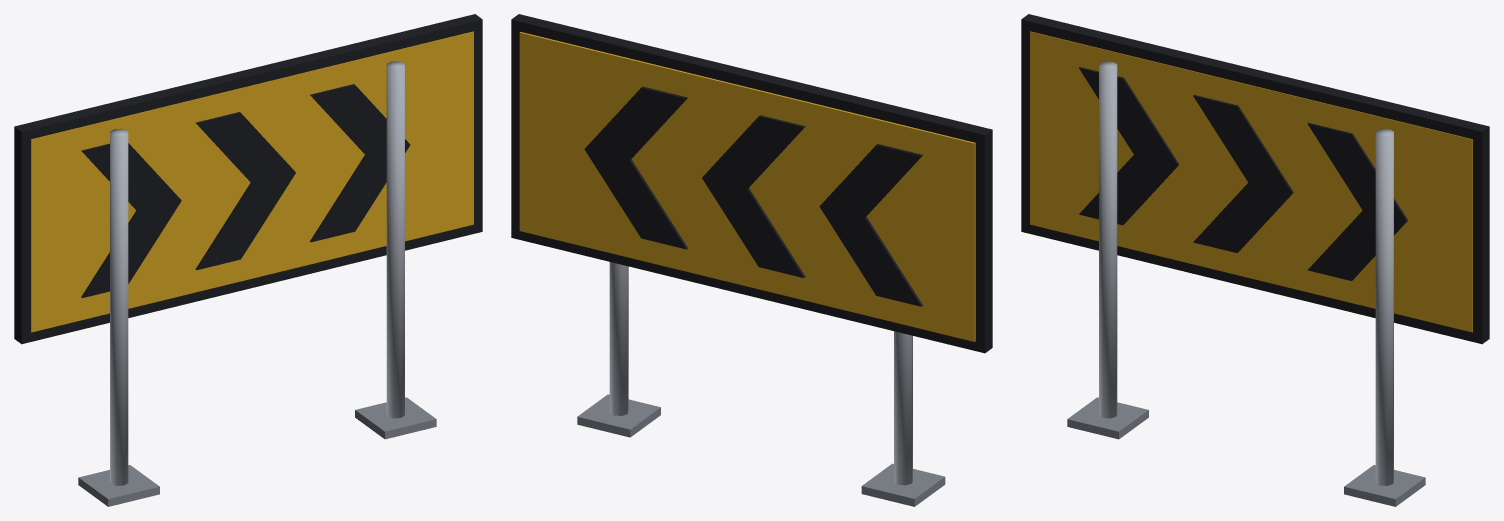
The model's file is sign_chevron.glb.
3 renders of one model, left to right at view 1: azimuth 30°, elevation 25°; view 2: azimuth 150°, elevation 25°; view 3: azimuth 330°, elevation 25°, orthographic. The views are drawn at different scales.
Visible parts, largest first — view 1: sign_chevron_mesh; view 2: sign_chevron_mesh; view 3: sign_chevron_mesh.
Part boxes in pixels (x1=…): sign_chevron_mesh: x1=14, y1=14, x2=482, y2=506; sign_chevron_mesh: x1=511, y1=14, x2=992, y2=506; sign_chevron_mesh: x1=1021, y1=14, x2=1489, y2=506.
Size of the model in its own units: 2.5 by 1.95 by 0.285.
